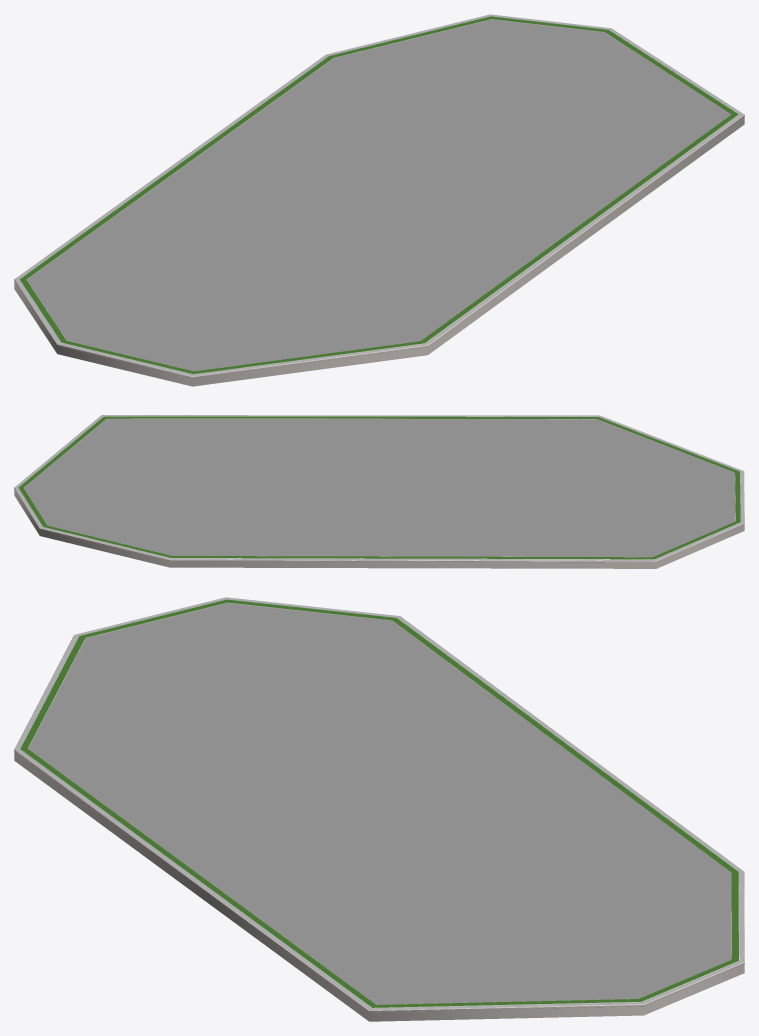
File: piera.glb
3 views of the same model, one above another, from view 1: azimuth 30°, elevation 25°; view 2: azimuth 150°, elevation 25°; view 3: azimuth 270°, elevation 25° (orthographic). The views are drawn at different scales.
Parts seen in each view (by area): view 1: piera; view 2: piera; view 3: piera.
Part boxes in pixels (x1,y1,x2,y2): piera: (14, 14, 744, 386); piera: (14, 415, 744, 568); piera: (14, 597, 744, 1021).
Size of the model in its own units: 553 by 7.1 by 413.
Materials: 4 (4 with a texture image).
